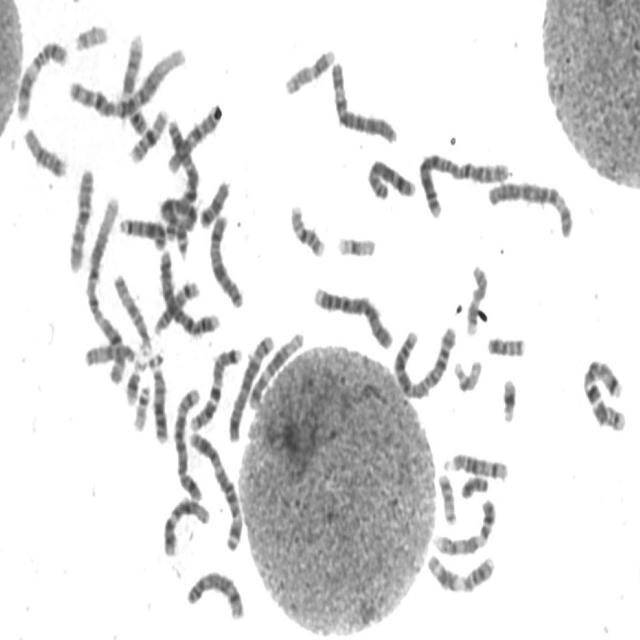A1: (66, 38, 189, 120), (82, 188, 128, 381)
A2: (414, 143, 512, 220), (389, 317, 461, 401)
A3: (185, 424, 246, 552), (163, 113, 200, 238)
B4: (310, 278, 396, 353), (156, 243, 222, 340)
B5: (225, 328, 276, 443), (170, 382, 205, 502)
C10: (165, 97, 224, 174), (65, 159, 97, 274)
C11: (13, 32, 71, 122), (424, 546, 498, 596)
C12: (246, 324, 306, 411), (160, 491, 213, 558)
C6: (328, 55, 400, 145), (484, 173, 577, 240)
C7: (186, 341, 245, 432), (580, 351, 630, 434)
C8: (184, 563, 246, 622), (364, 152, 418, 202)
C9: (431, 492, 499, 557), (118, 28, 151, 137)
D13: (146, 346, 171, 446), (115, 210, 169, 252)
D14: (150, 273, 202, 337), (441, 446, 511, 483)
D15: (110, 267, 154, 356), (82, 334, 140, 369)
E16: (126, 101, 172, 164), (287, 198, 328, 259)
E17: (281, 40, 338, 97), (463, 259, 490, 338)
E18: (20, 120, 70, 179), (196, 172, 233, 229)
F19: (334, 228, 379, 260), (450, 352, 485, 393)
F20: (435, 467, 459, 526), (484, 328, 528, 358)
G21: (123, 354, 146, 406), (498, 371, 520, 424)
G22: (71, 16, 111, 54), (129, 380, 153, 432)
X: (206, 207, 247, 310)
Y: (458, 468, 490, 500)
